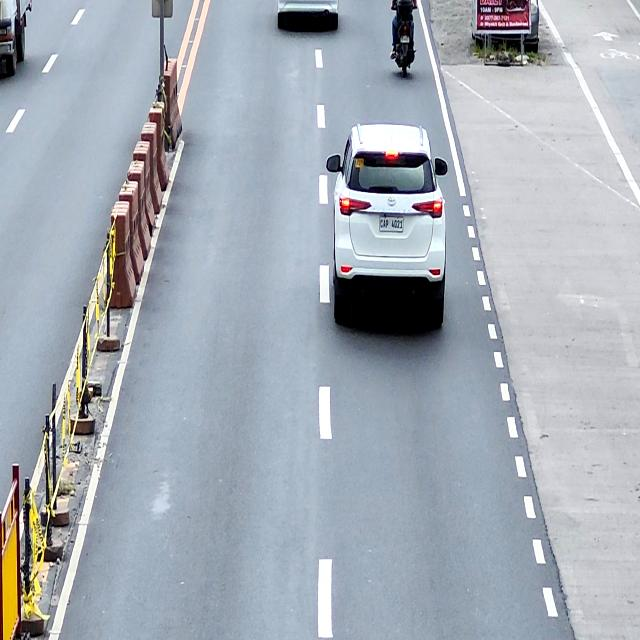Car: (327, 124, 448, 328), (277, 0, 339, 32)
License-Plate: (379, 218, 404, 231), (400, 35, 410, 44)
Motorcycle: (391, 4, 417, 77)
